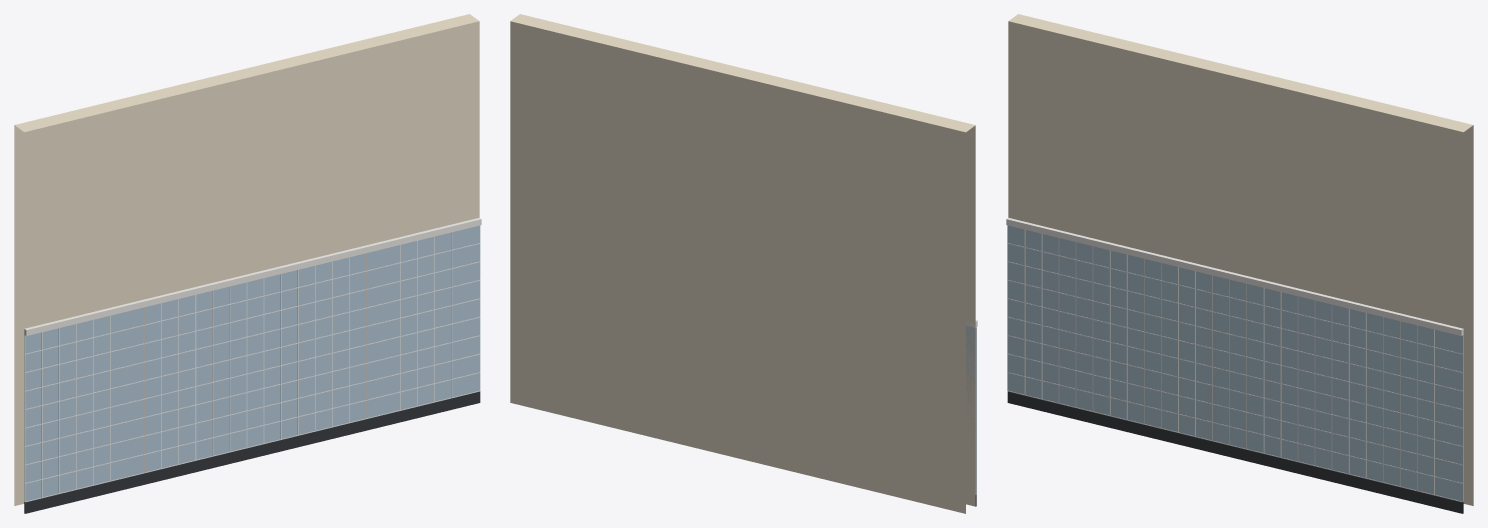
The model's file is Wall_Tile_Bath_4m.glb.
3 renders of one model, left to right at view 1: azimuth 30°, elevation 25°; view 2: azimuth 150°, elevation 25°; view 3: azimuth 330°, elevation 25°, orthographic.
Parts seen in each view (by area): view 1: Wall_Tile_Bath_4m; view 2: Wall_Tile_Bath_4m; view 3: Wall_Tile_Bath_4m.
Part boxes in pixels (x1,y1,x2,y2): Wall_Tile_Bath_4m: (14, 14, 481, 513); Wall_Tile_Bath_4m: (510, 14, 977, 513); Wall_Tile_Bath_4m: (1006, 14, 1473, 513).
Size of the model in its own units: 4 by 3.2 by 0.18.
1 material, 1 textured.
